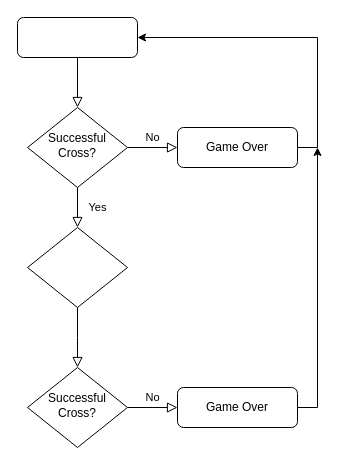
This 343x465 diagram has some shape labels left out. The box of each missing label's shape, as (x1, y1, x2, y2) in pixels:
Initialize Turtle, Cars, Scoreboard: (16, 16, 138, 58)
Level advance: (26, 226, 128, 308)
